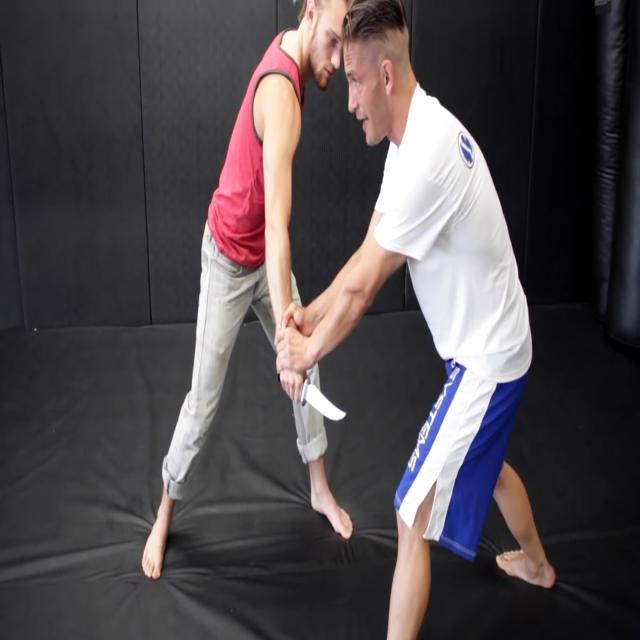knife: (304, 376, 350, 432)
